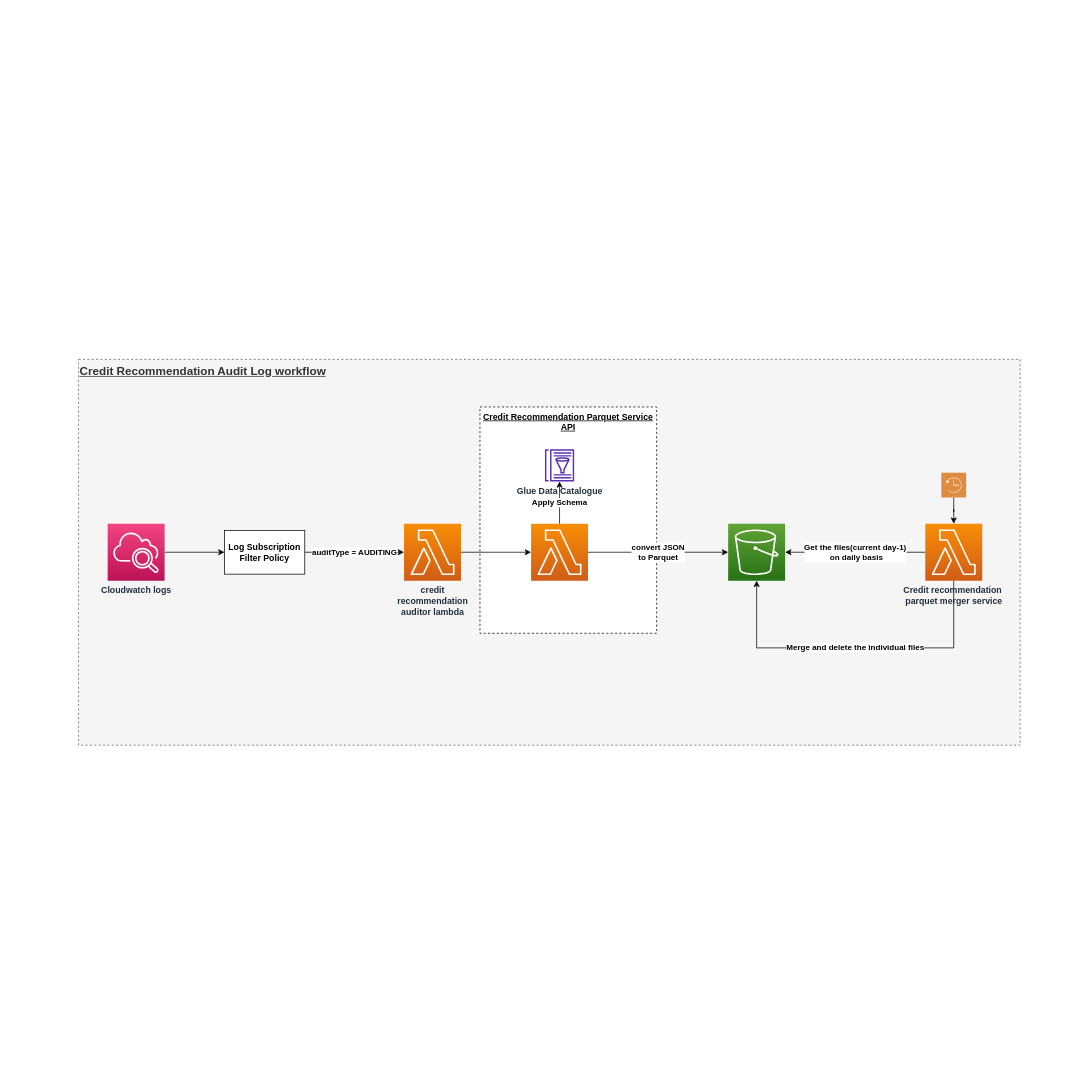
Some shapes in this 1083 by 1091 pixel diagram are drawn without their labels. The shapes that lost their labels are listed below. From the top down, each one's centre as x and y in pixels, then its label:
At point (953, 484): "Scheduled cron".
At point (559, 552): "Credit recommendation Parquet service lambda".
At point (756, 552): "auditing/customer={string}/ year={yyyy}/month={mm}/ date={dd}/hour={hh}".
